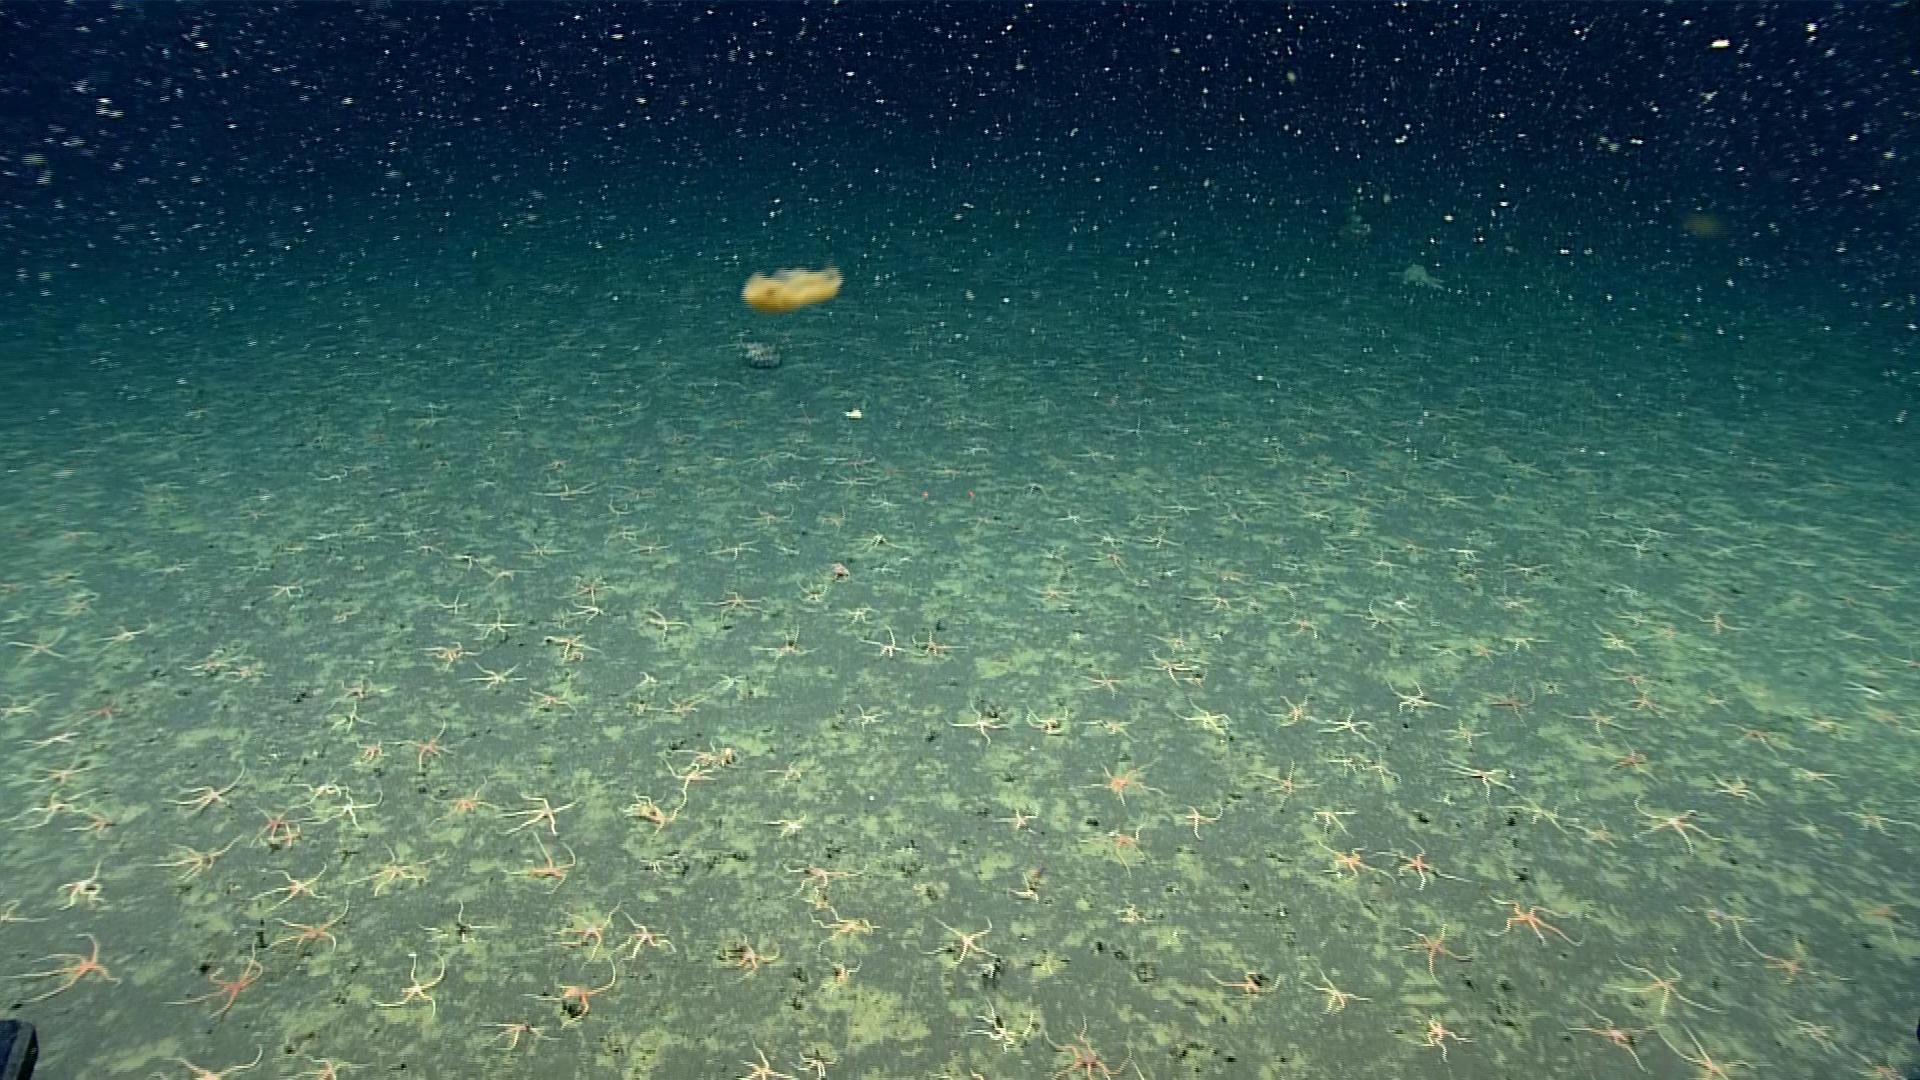brittle_sea_star: (4, 930, 121, 1002), (164, 943, 264, 1017), (1614, 953, 1717, 1022), (1568, 1000, 1656, 1071), (1742, 932, 1854, 984), (1625, 795, 1724, 852), (371, 952, 448, 1019), (542, 901, 617, 968), (526, 971, 615, 1026), (1, 785, 102, 833), (149, 833, 243, 885), (1663, 1022, 1747, 1079), (347, 845, 438, 897), (1399, 926, 1477, 984), (1481, 895, 1569, 945), (923, 915, 1000, 969), (1046, 1019, 1114, 1079), (1390, 837, 1466, 889), (804, 903, 885, 952), (269, 909, 348, 957), (497, 790, 580, 836), (508, 837, 578, 890), (415, 898, 492, 945), (386, 721, 462, 769), (418, 778, 493, 825), (162, 1043, 262, 1079), (611, 913, 676, 965), (1502, 790, 1577, 836), (1087, 815, 1145, 874), (1302, 967, 1366, 1019), (158, 774, 244, 814), (1443, 756, 1515, 802), (1083, 764, 1163, 804), (971, 1000, 1034, 1051), (775, 858, 858, 897), (719, 932, 782, 982), (255, 862, 328, 905), (1317, 841, 1389, 885), (947, 700, 1011, 746), (1416, 1015, 1481, 1062), (1680, 894, 1755, 934), (311, 790, 384, 831), (9, 754, 98, 787), (5, 624, 71, 665), (1200, 965, 1282, 998), (625, 789, 683, 835), (1246, 764, 1311, 804), (55, 860, 111, 907), (476, 1015, 550, 1051), (1784, 1010, 1845, 1052), (1722, 717, 1788, 756), (1251, 690, 1319, 727), (658, 757, 717, 798), (1597, 738, 1654, 781), (464, 607, 530, 642), (1840, 803, 1912, 835), (705, 585, 769, 621), (1382, 680, 1443, 717), (459, 659, 526, 692), (287, 1052, 368, 1079), (1563, 703, 1631, 733), (418, 637, 480, 670), (247, 804, 298, 844), (756, 626, 815, 661), (1866, 893, 1916, 932), (1482, 686, 1539, 720), (1158, 624, 1215, 658), (524, 682, 576, 717), (1178, 803, 1229, 839), (632, 605, 687, 638), (1179, 703, 1234, 736), (1143, 649, 1192, 686), (735, 1042, 782, 1079), (862, 625, 907, 662), (1307, 802, 1358, 833), (679, 740, 740, 766), (1323, 708, 1375, 738), (789, 1047, 839, 1079), (541, 632, 597, 659), (1019, 578, 1079, 604), (1183, 588, 1245, 613), (1356, 547, 1407, 576), (1706, 773, 1755, 803), (94, 624, 146, 651), (907, 629, 957, 658), (564, 595, 615, 624), (1080, 667, 1127, 698), (1079, 543, 1130, 571), (1279, 608, 1320, 642), (0, 897, 46, 927), (324, 702, 372, 731), (1610, 659, 1654, 691), (18, 731, 83, 752), (75, 807, 128, 832), (183, 649, 233, 675), (1361, 604, 1404, 634), (1084, 525, 1130, 553), (1026, 707, 1069, 736), (298, 775, 348, 800), (1362, 757, 1402, 789), (1693, 607, 1741, 633), (1083, 713, 1138, 736), (529, 483, 595, 501), (1440, 721, 1493, 744), (711, 534, 754, 560), (761, 812, 808, 836), (662, 694, 708, 717), (856, 525, 894, 553), (844, 703, 884, 729), (1580, 823, 1619, 849), (994, 807, 1040, 829), (1486, 588, 1532, 611), (324, 678, 373, 699), (828, 957, 862, 986), (1788, 765, 1838, 785), (1114, 1051, 1150, 1079), (733, 508, 790, 525), (1800, 711, 1840, 735), (1139, 525, 1179, 549), (1385, 589, 1420, 616), (1784, 812, 1825, 835), (1160, 496, 1201, 518), (479, 566, 531, 583), (836, 604, 878, 625), (1627, 694, 1667, 716), (1505, 632, 1552, 650), (820, 556, 855, 582), (80, 700, 119, 723), (353, 737, 385, 764), (1832, 621, 1871, 642), (1462, 641, 1497, 665), (145, 558, 193, 575), (769, 760, 807, 781), (228, 662, 266, 683), (1510, 558, 1553, 576), (1333, 752, 1364, 778), (796, 580, 827, 607), (857, 493, 898, 510), (1013, 877, 1039, 903), (568, 578, 601, 599), (268, 580, 307, 597), (442, 551, 488, 566), (1294, 505, 1336, 521), (1618, 538, 1656, 555), (1865, 1059, 1898, 1079), (1701, 686, 1730, 708), (636, 667, 663, 690), (438, 595, 465, 613), (625, 698, 650, 716), (607, 526, 638, 539), (1062, 508, 1084, 525)
